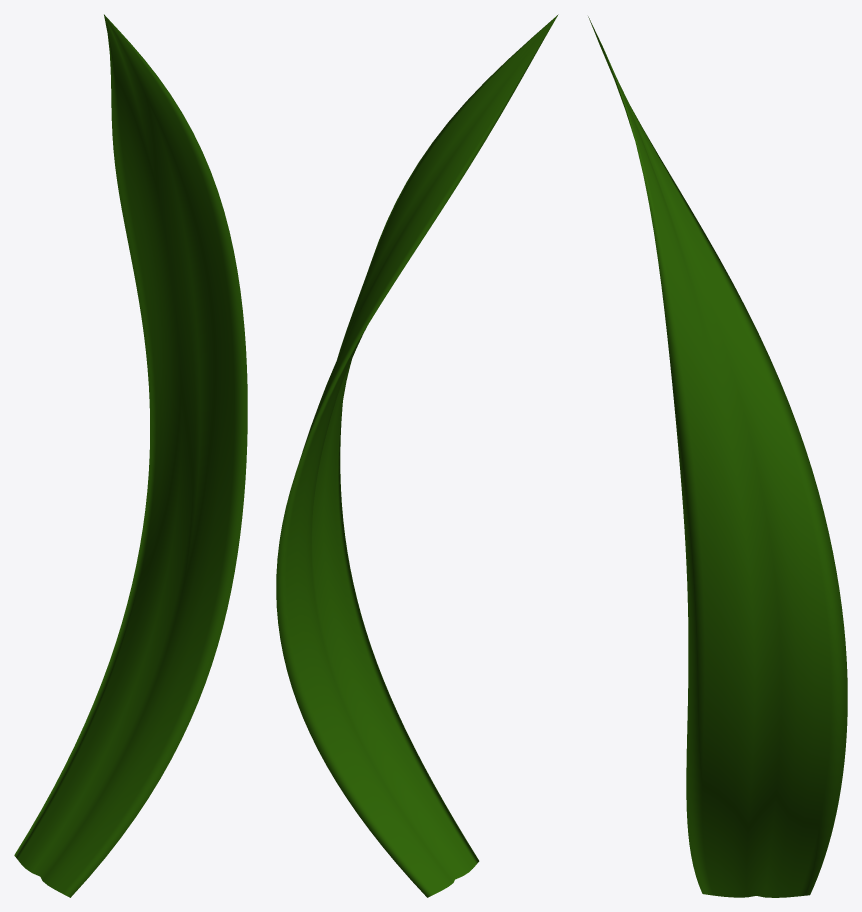
The picture shows the model from 3 angles, left to right: view 1: azimuth 30°, elevation 25°; view 2: azimuth 150°, elevation 25°; view 3: azimuth 270°, elevation 25°; orthographic projection. The views are drawn at different scales.
Parts seen in each view (by area): view 1: ТраекторияNurbs.003; view 2: ТраекторияNurbs.003; view 3: ТраекторияNurbs.003.
Boxes of the visible parts, x1,y1,x2,y2 form: ТраекторияNurbs.003: (14,14,247,897); ТраекторияNurbs.003: (276,14,558,897); ТраекторияNurbs.003: (588,16,847,897).
Bounding box in the file's own units: 101 × 451 × 123.
